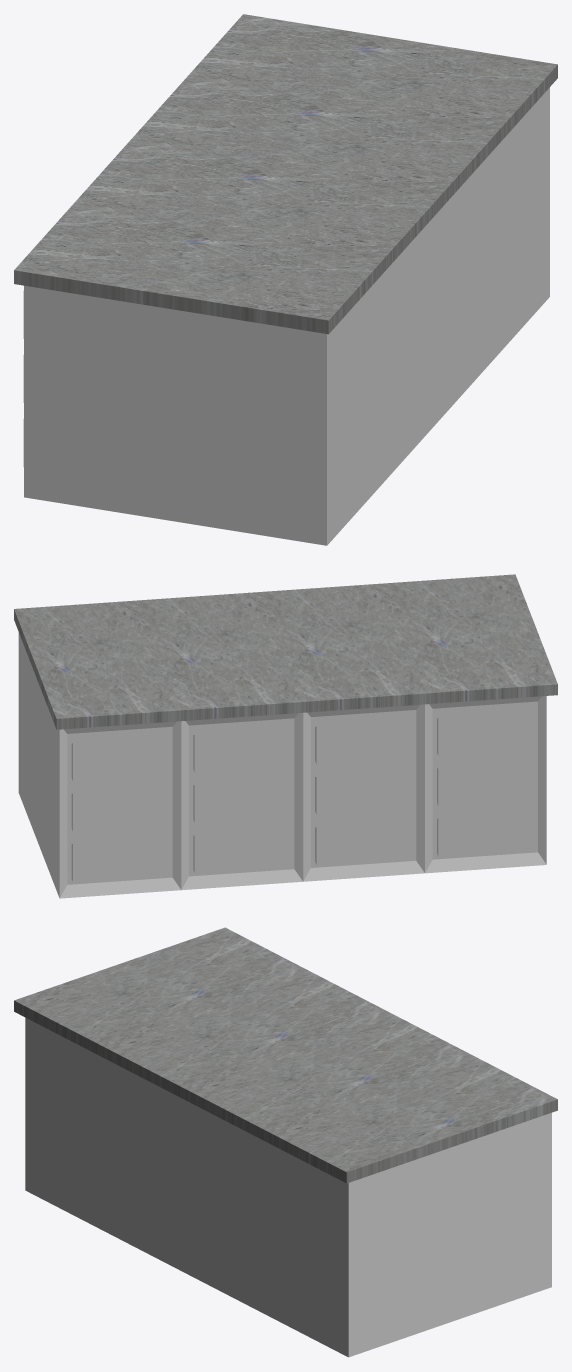
The model's file is jam boi köksö.fbx.
3 renders of one model, top to bottom at view 1: azimuth 30°, elevation 25°; view 2: azimuth 150°, elevation 25°; view 3: azimuth 270°, elevation 25°, orthographic. The views are drawn at different scales.
Visible parts, largest first — view 1: Cube.020; view 2: Cube.020; view 3: Cube.020.
Boxes of the visible parts, bbox=[...] form: Cube.020: bbox=[14, 14, 557, 545]; Cube.020: bbox=[14, 574, 557, 898]; Cube.020: bbox=[14, 927, 557, 1357].
Bounding box in the file's own units: 4741 × 1695 × 4449.
Materials: 2 (1 with a texture image).
